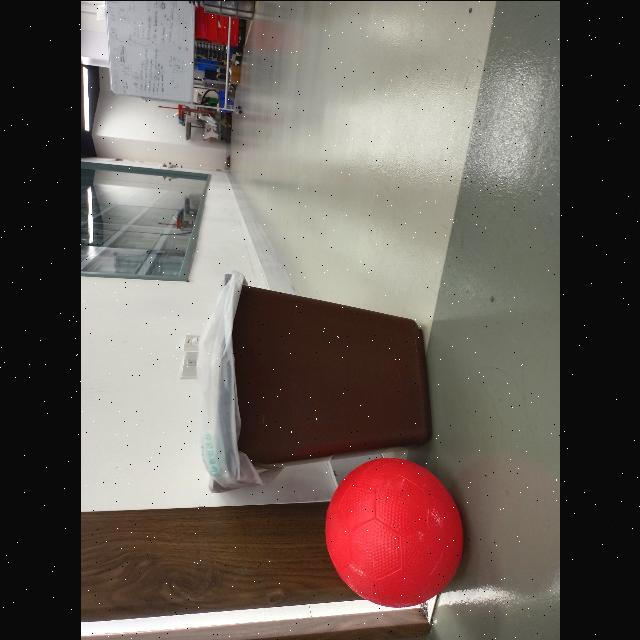R: (319, 450, 466, 608)
